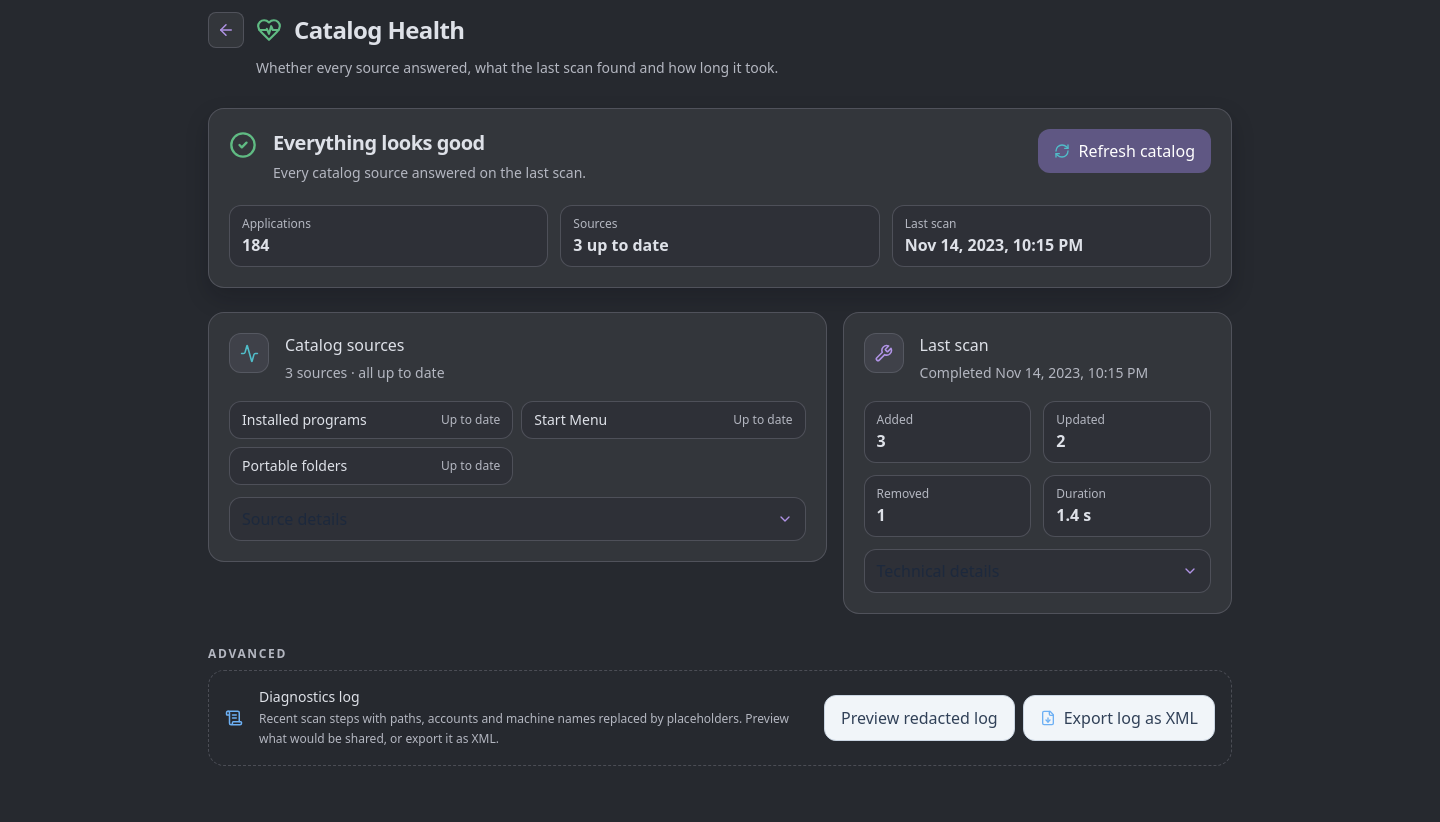
it: CatalogHealthPage › reports a failed preview without the underlying error
Click the button "Preview redacted log".
click(919, 718)  # box [824,695,1015,741]
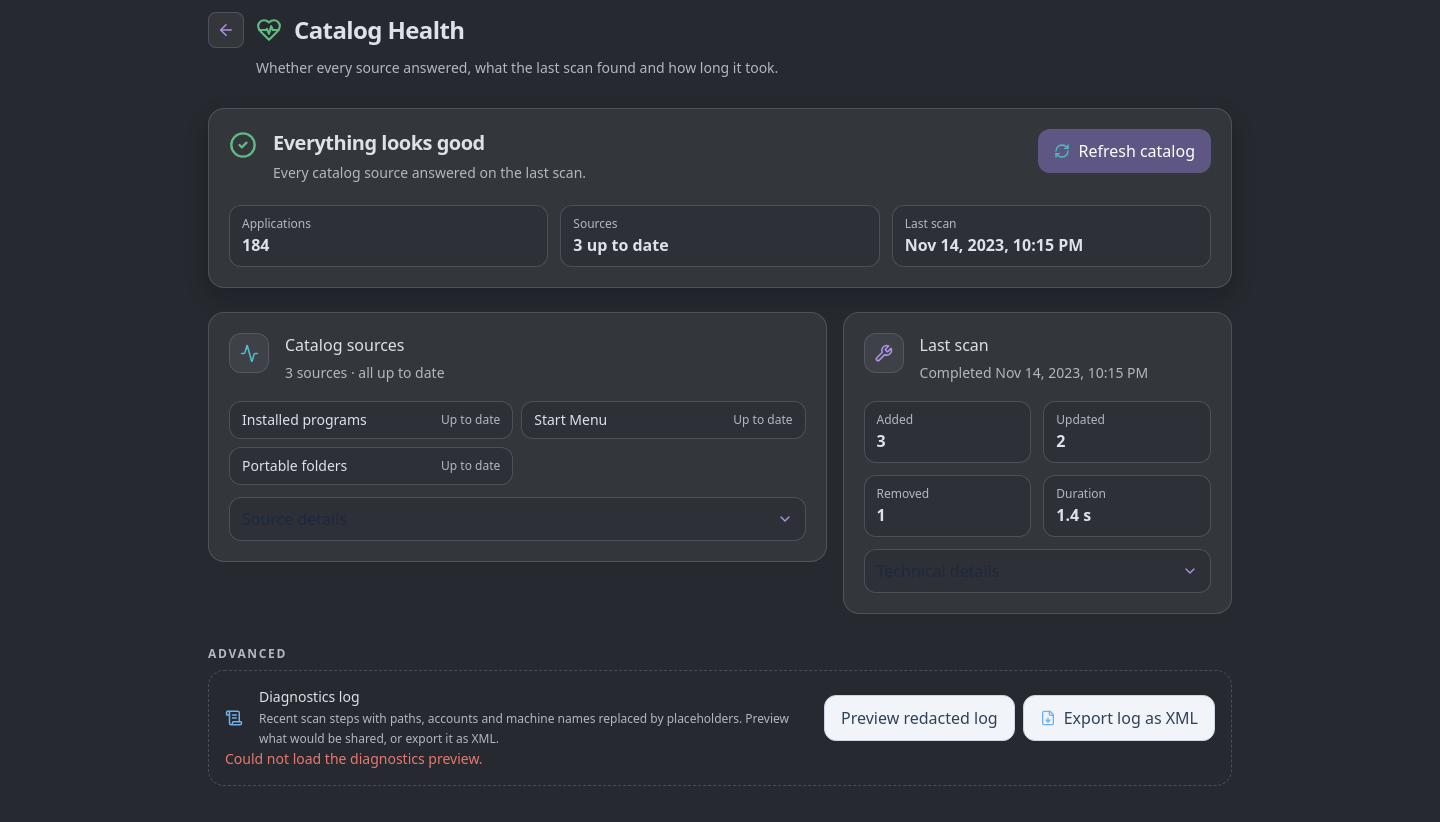
Expected: the message "Could not load the diagnostics preview." is shown, [225,749,483,768]
